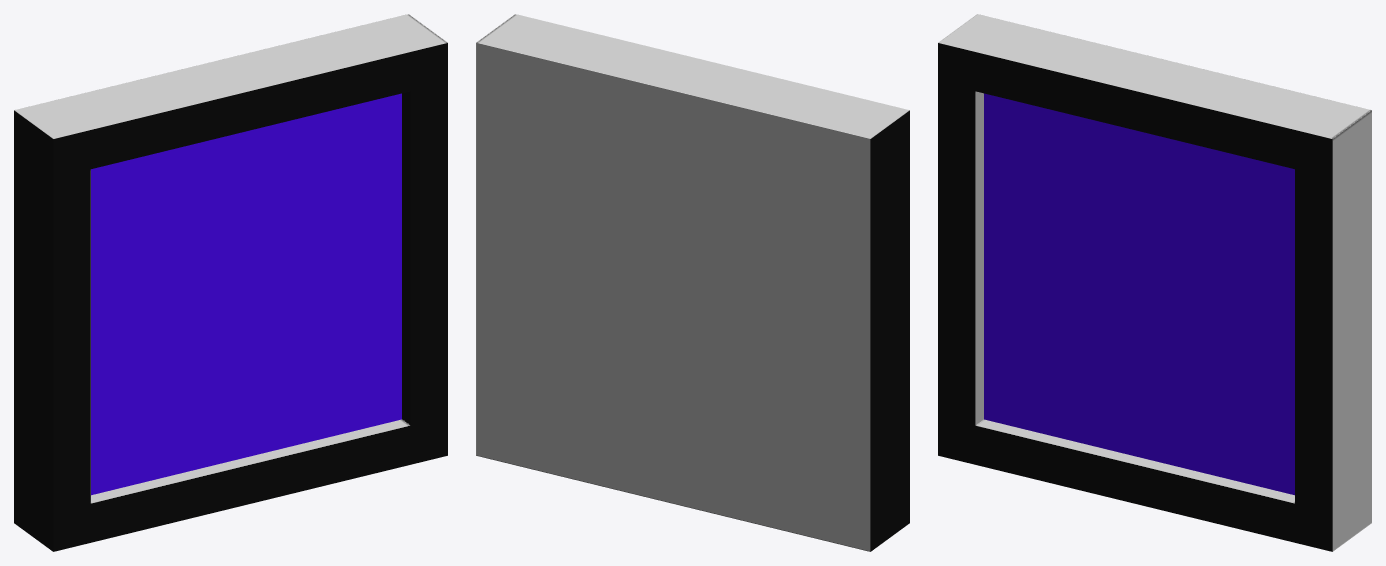
Rendered from painting_end.glb.
The picture shows the model from 3 angles, left to right: view 1: azimuth 30°, elevation 25°; view 2: azimuth 150°, elevation 25°; view 3: azimuth 330°, elevation 25°; orthographic projection.
Visible parts, largest first — view 1: Cube.001, Cube; view 2: Cube; view 3: Cube.001, Cube.
Part boxes in pixels (<box>): Cube.001: <box>91,93,401,495</box>; Cube: <box>14,14,447,551</box>; Cube: <box>476,14,909,551</box>; Cube.001: <box>984,93,1294,495</box>; Cube: <box>938,14,1371,551</box>.
Bounding box in the file's own units: 2 × 2 × 0.3459.
Materials: 2 (1 with a texture image).
